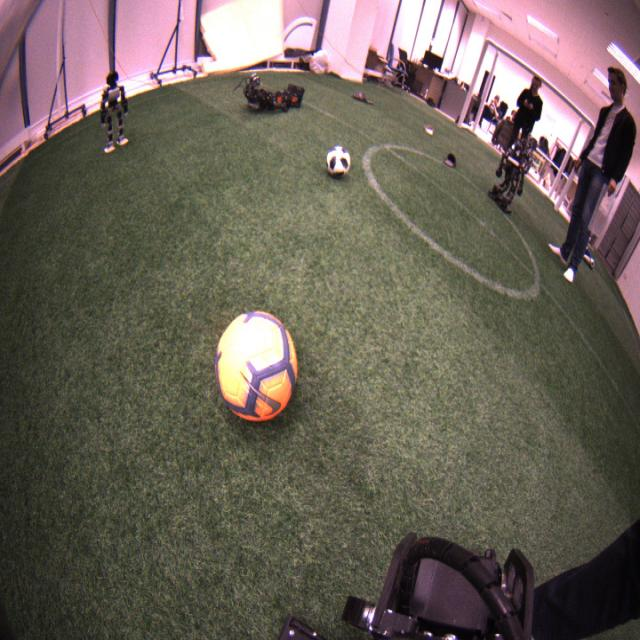ball: (215, 310, 300, 425), (325, 146, 349, 180)
goalpost: (554, 124, 596, 210), (456, 38, 490, 129)
